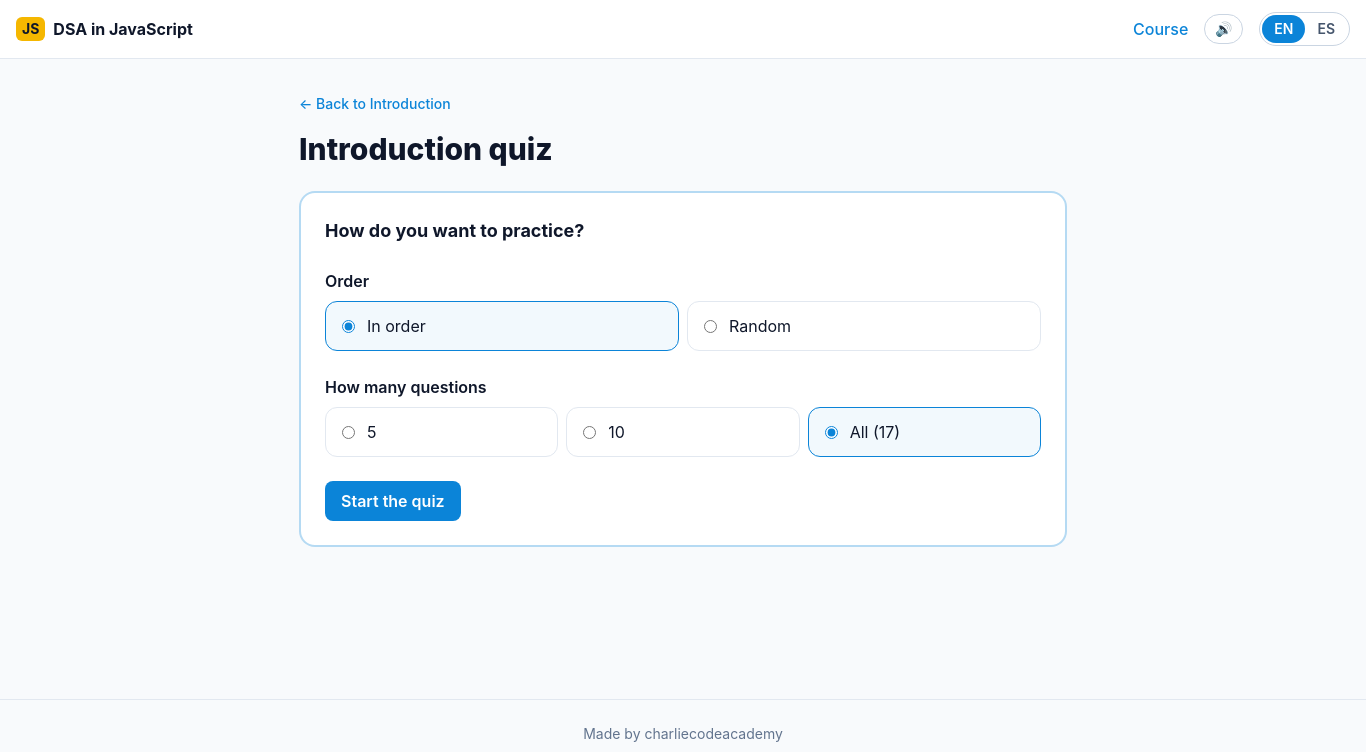
it: quiz page › shows one question at a time and explains the answer
Expected: the heading "Introduction quiz" is shown, [299,131,553,167]
Step 1. Click the button "Start the quiz" → (393, 501), box [325,481,461,521]
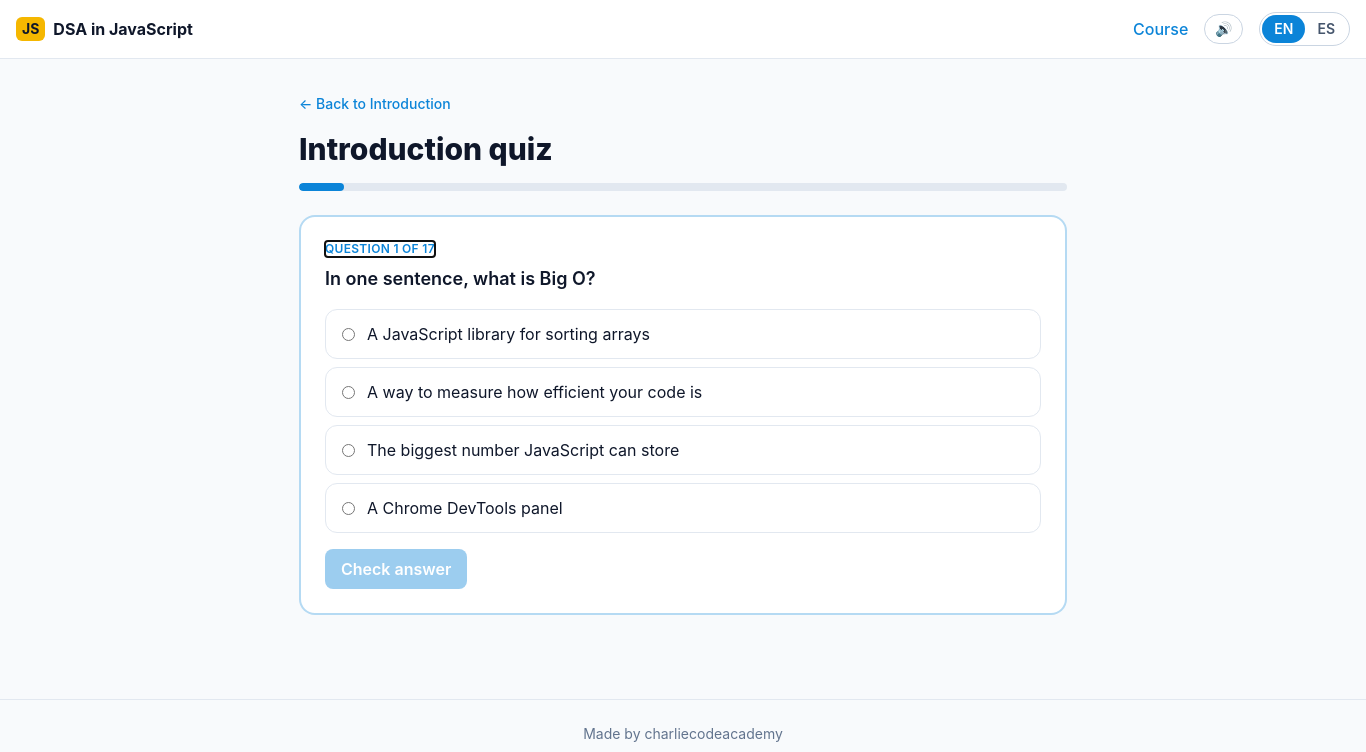
Now the button "Check answer" is disabled, box [325,549,467,589]
Step 2. Click the radio button labelled "A way to measure how efficient your code is" → (348, 392), box [342,386,355,398]
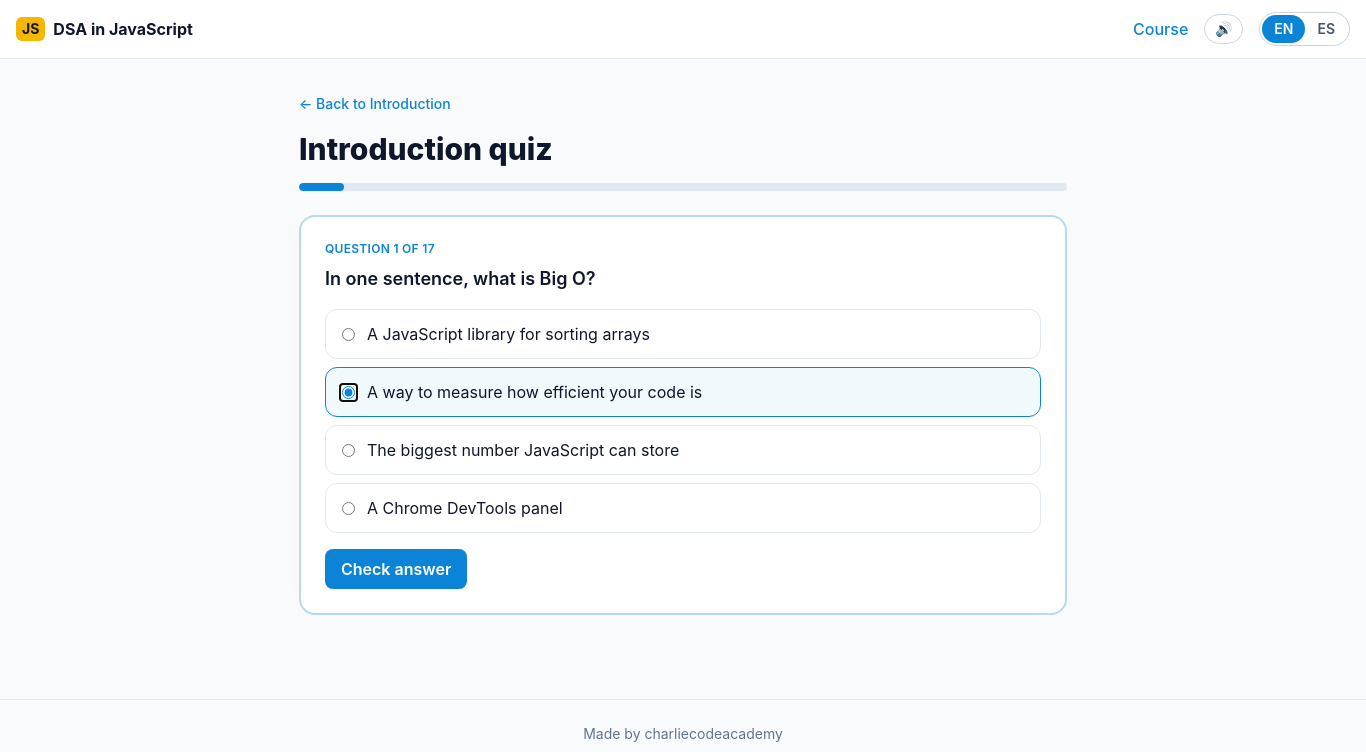
Step 3. Click the button "Check answer" → (396, 569), box [325,549,467,589]
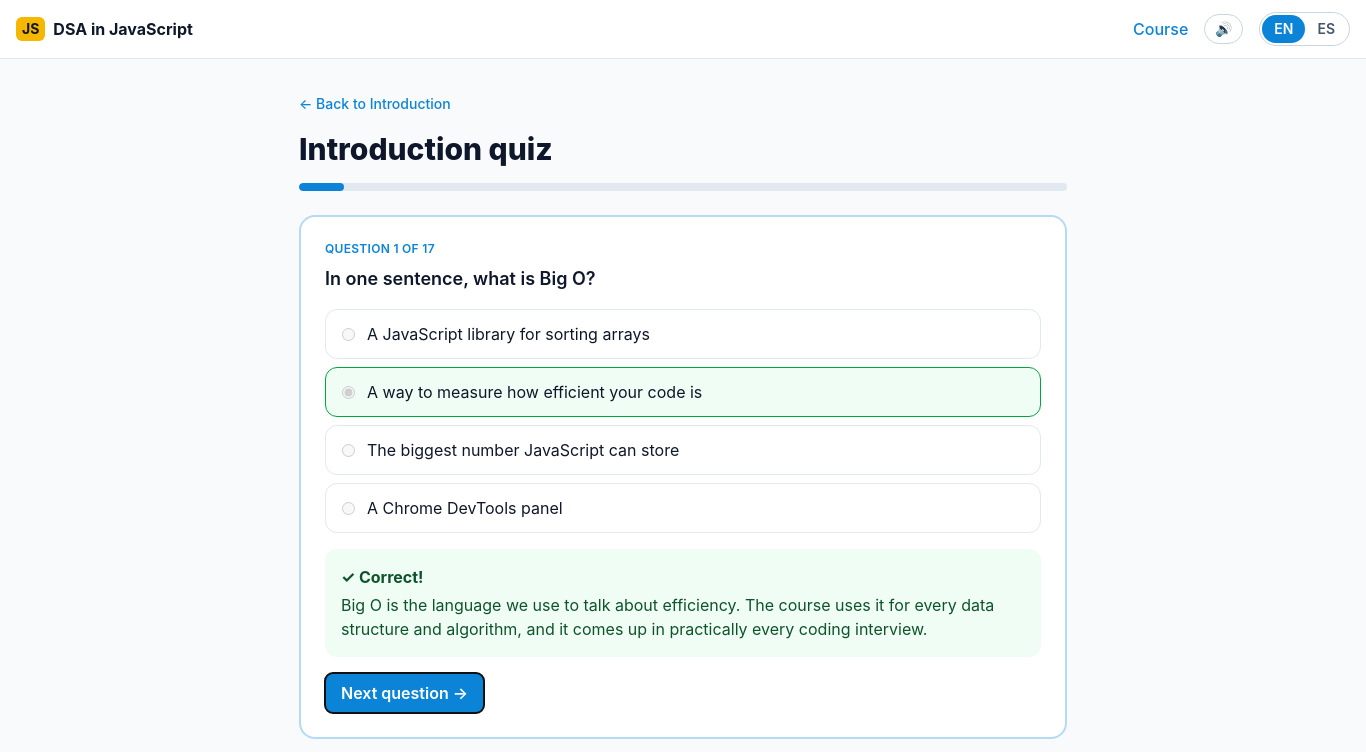
Now the text "✓ Correct!" is shown, box [341,567,424,587]
Now the radio button labelled "A JavaScript library for sorting arrays" is disabled, box [342,328,355,340]
Step 4. Click the button "Next question →" → (404, 693), box [325,673,484,713]
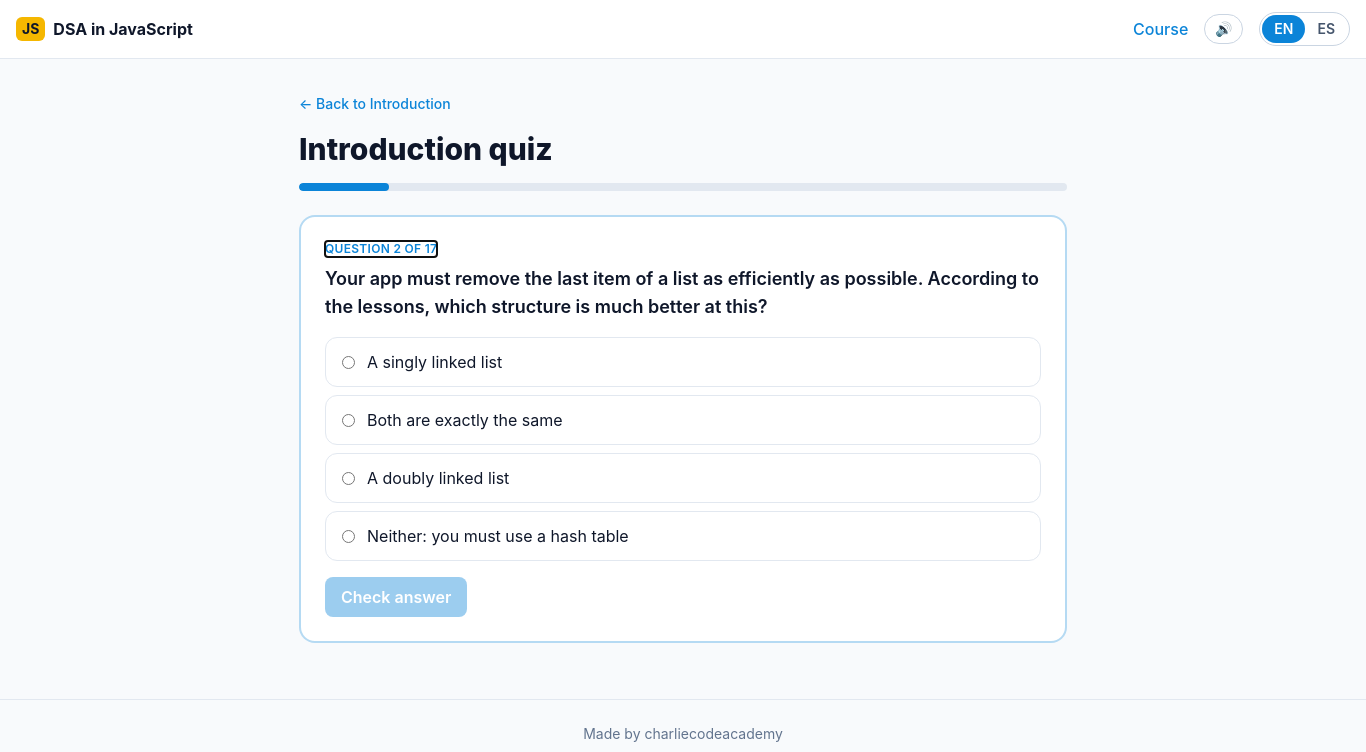
Now the button "Check answer" is disabled, box [325,577,467,617]
